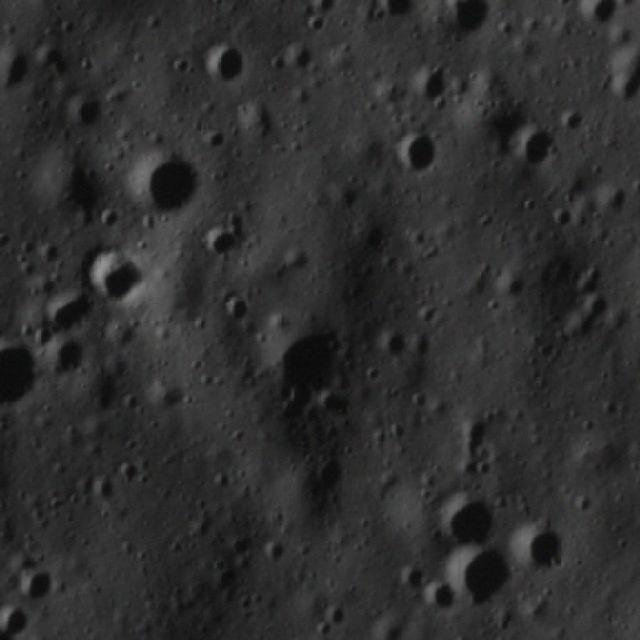crater: (267, 308, 351, 394), (437, 547, 525, 622), (127, 150, 208, 225), (79, 243, 161, 306), (0, 329, 55, 404), (428, 490, 500, 547), (35, 290, 103, 338), (518, 521, 574, 579), (197, 34, 254, 88), (510, 119, 564, 175), (391, 128, 446, 178), (411, 59, 464, 108), (205, 209, 248, 265), (443, 0, 499, 42), (0, 32, 31, 92), (22, 564, 62, 608), (33, 44, 76, 79), (276, 44, 315, 79), (0, 601, 35, 638), (370, 0, 415, 22), (556, 106, 590, 134), (300, 12, 329, 37), (0, 623, 34, 640), (0, 66, 5, 125), (227, 635, 273, 640)
